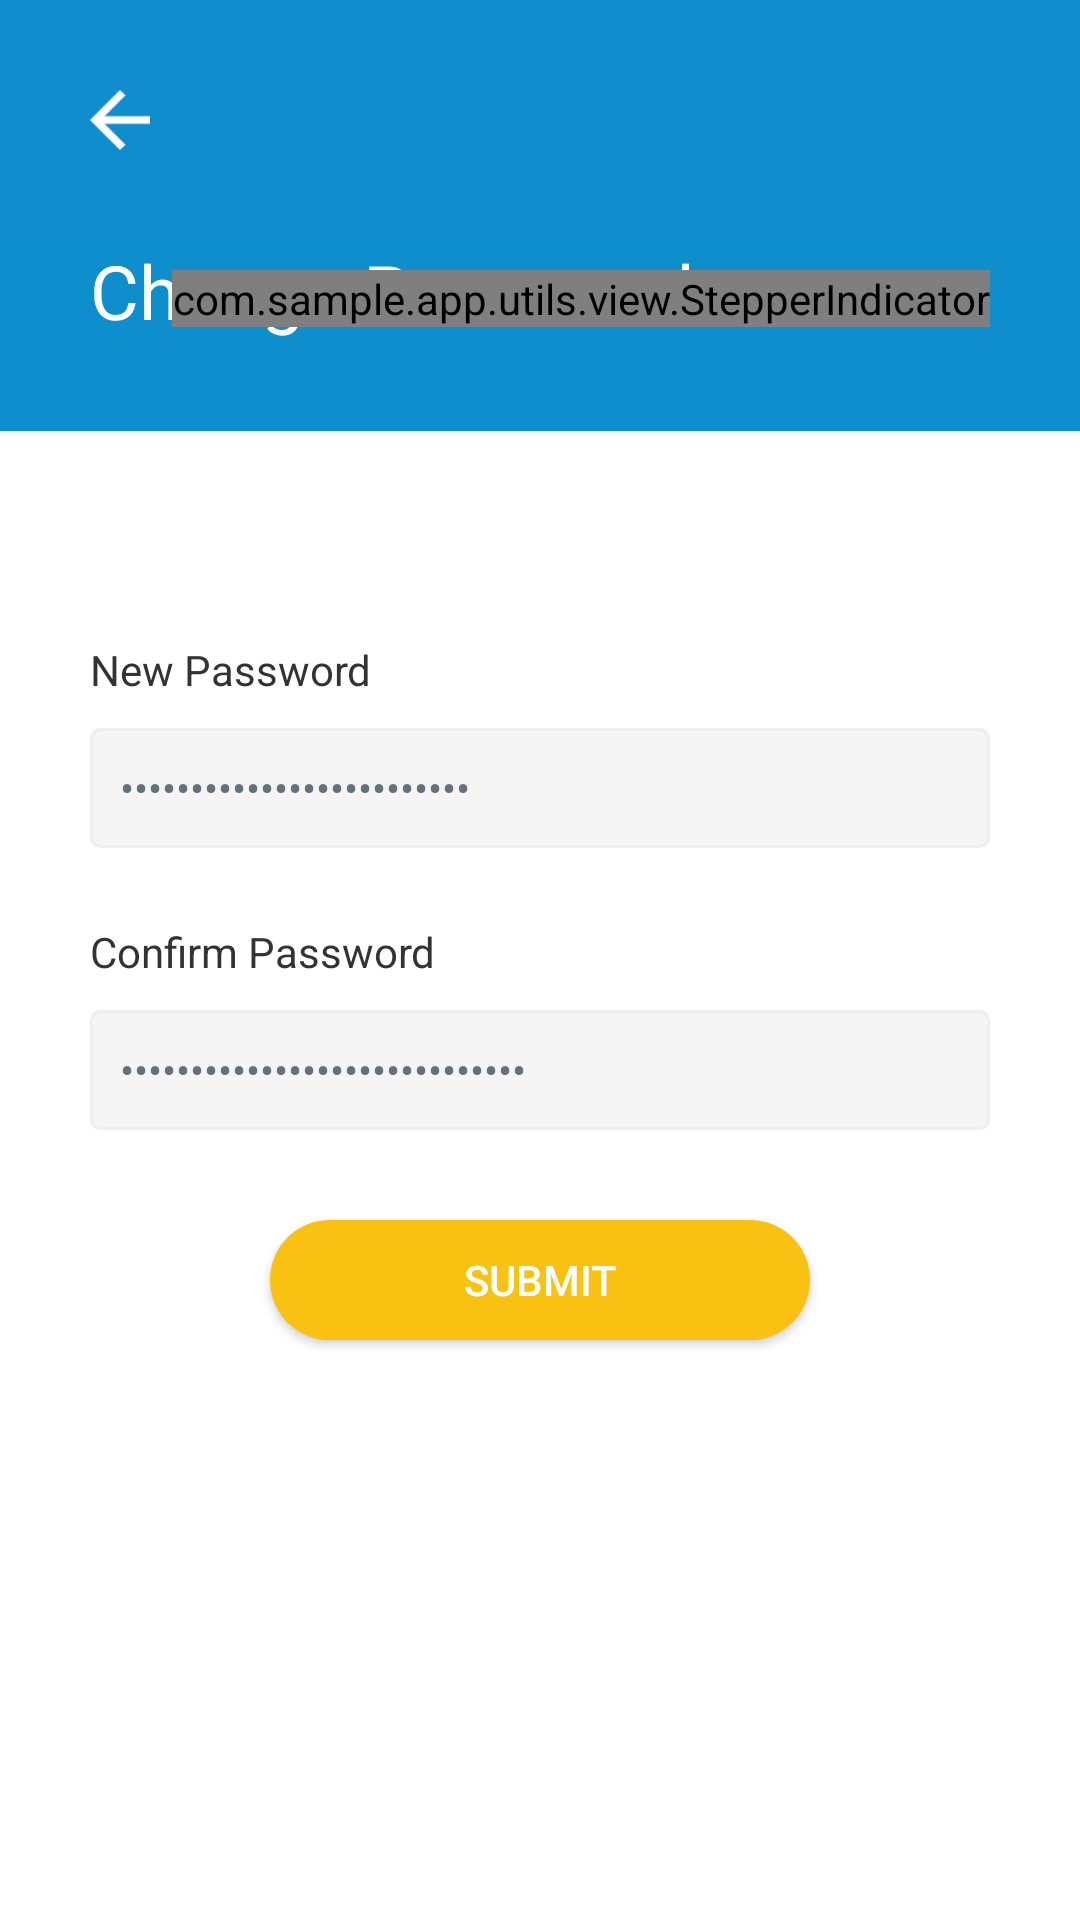

Screen size 1080px x 1920px. Icon name, then its center in pixels as point (x, y):
arrow left: point (120, 120)
